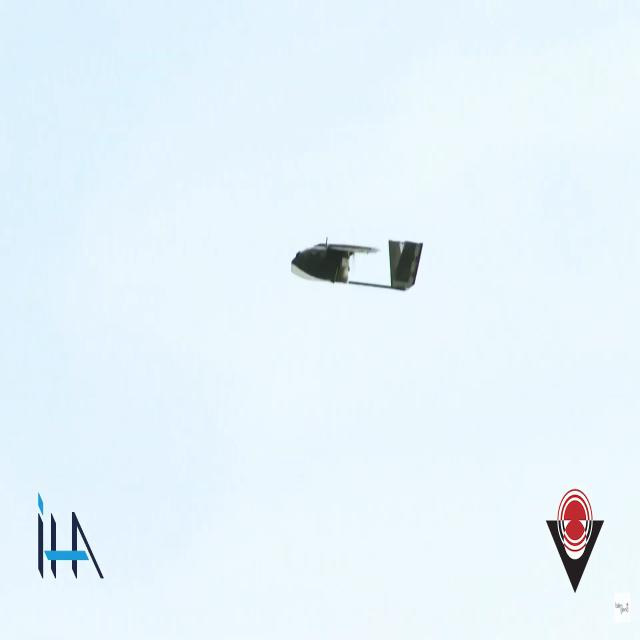iha: (290, 230, 423, 287)
